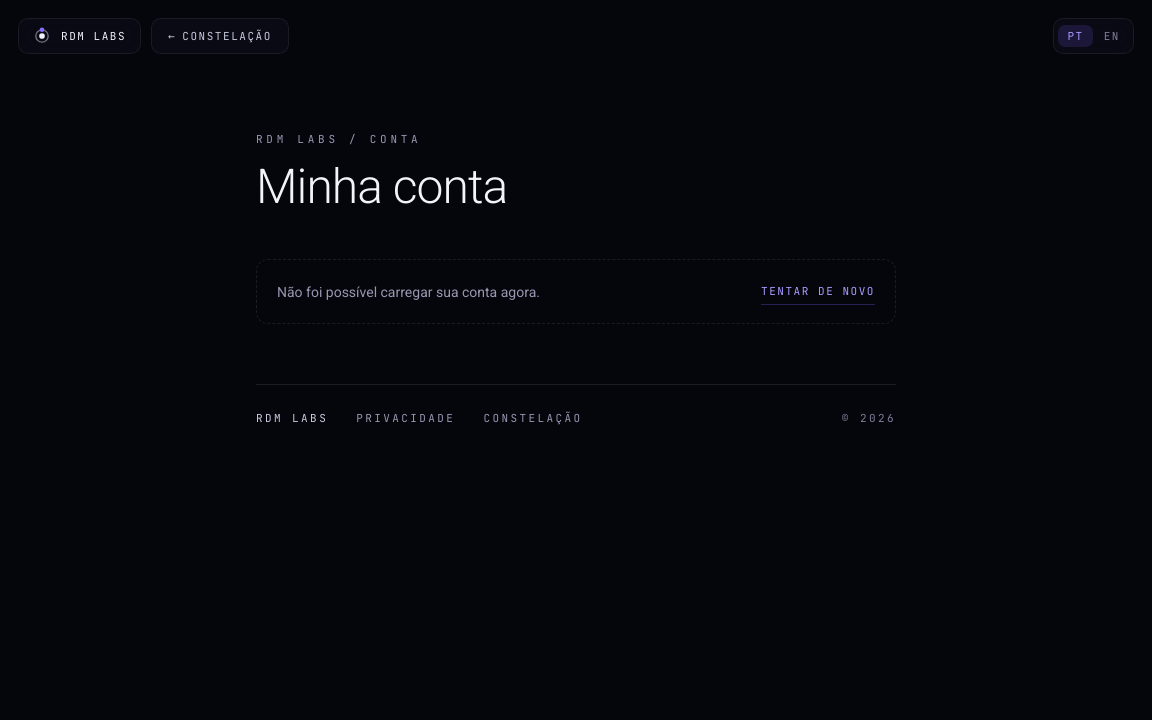
Test: Minha conta › API fora do ar: avisa e tenta de novo
The width and height of the screenshot is (1152, 720).
Expected: the text "Não foi possível carregar sua conta agora." is shown, 277,284 -> 540,300
Click the button "TENTAR DE NOVO".
click(818, 292)  # box 761,278 -> 875,305
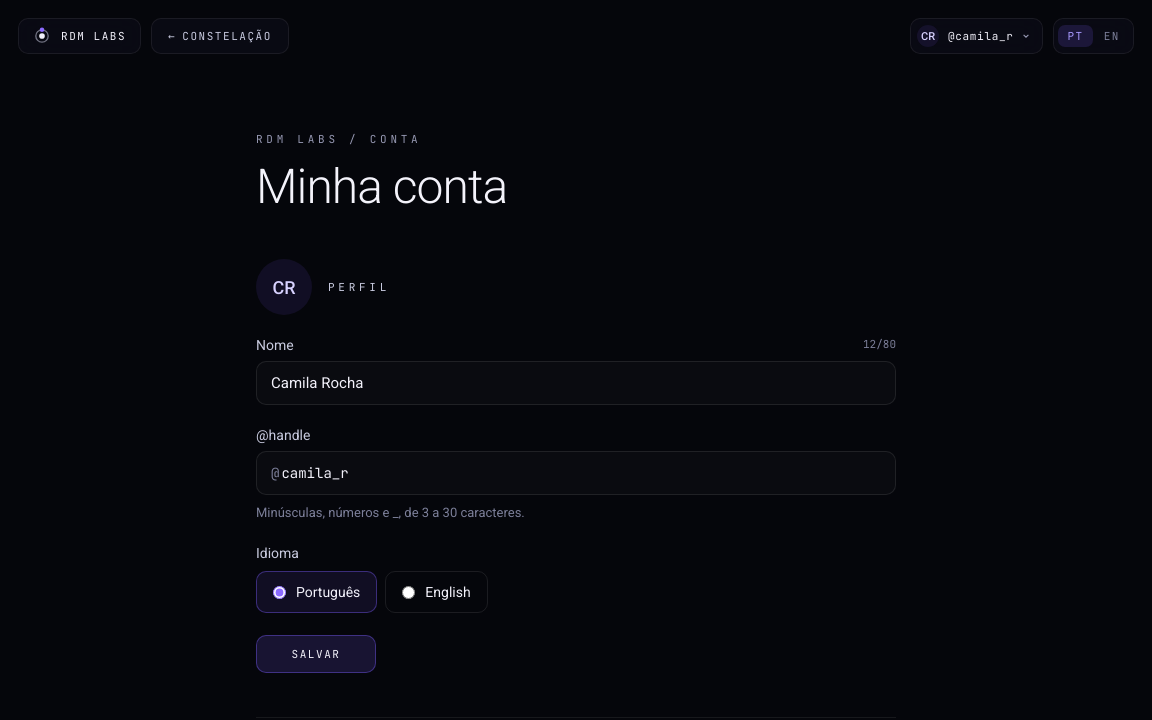
Expected: the field labelled "Nome" is shown, 256,361 -> 896,405
